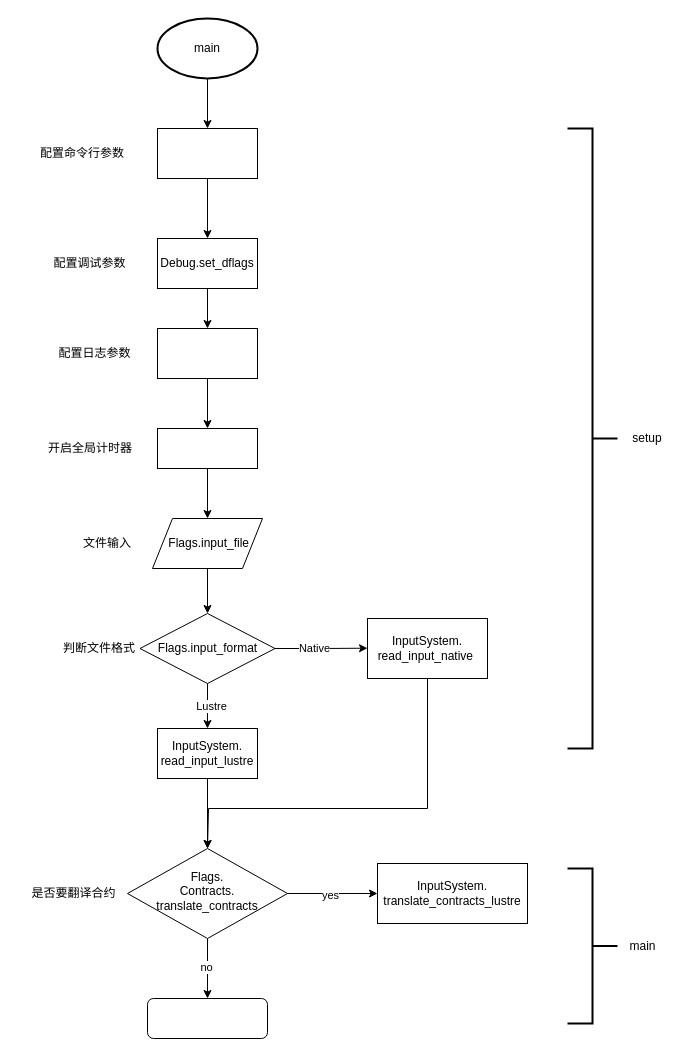
Some shapes in this 694 by 1056 pixel diagram are drawn without their labels. Here are the shapes that lost their labels. From the top down, the box of each, then its label:
(156, 128, 258, 178): Flags.parse_argv
(156, 328, 258, 378): output_on_level L_debug
(156, 428, 258, 468): Stat.start_timer
(146, 998, 268, 1038): Kind2Flow.run
